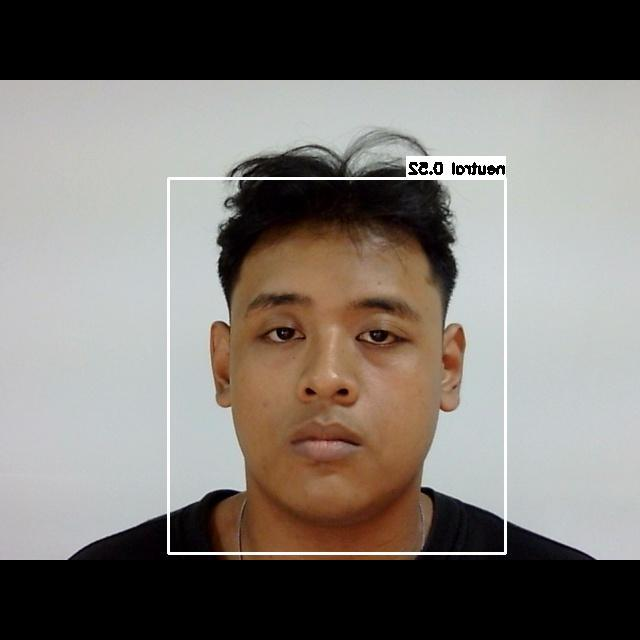Natural: (239, 275, 438, 495)
